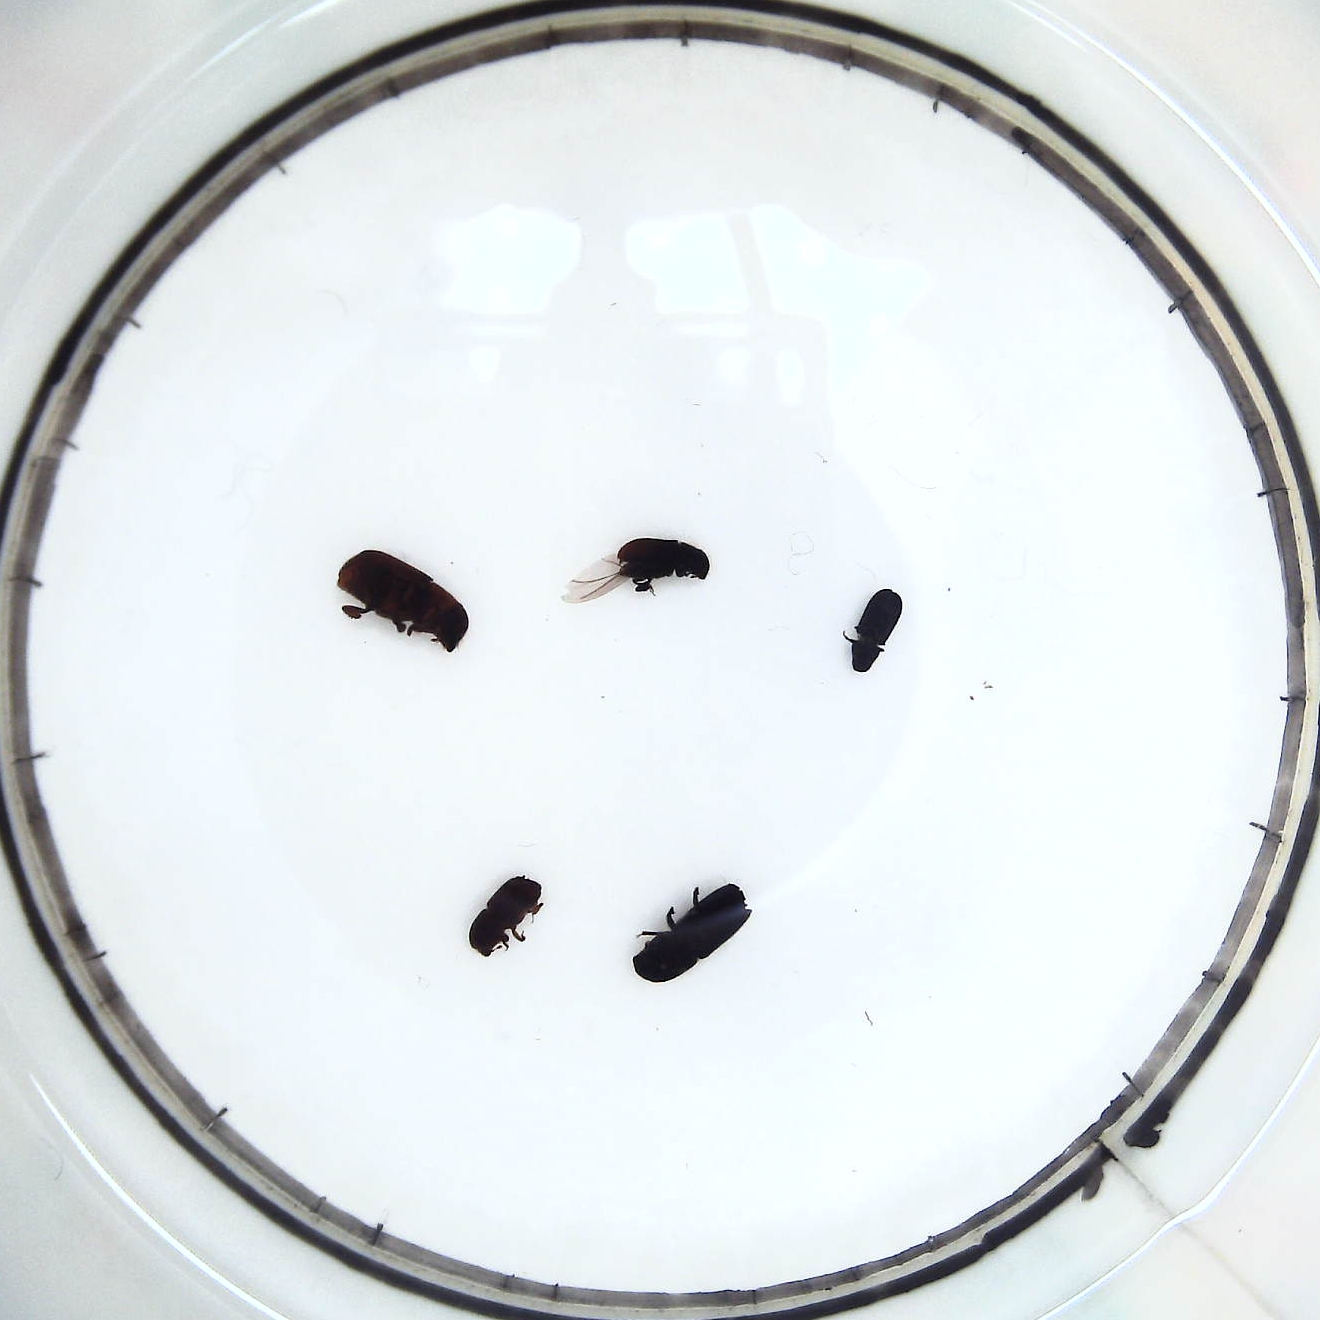Boerner: (629, 882, 763, 988)
Leconte: (332, 543, 471, 658)
armandi: (571, 531, 717, 602)
coleoptera: (844, 580, 910, 682)
linnaeus: (463, 873, 546, 963)
